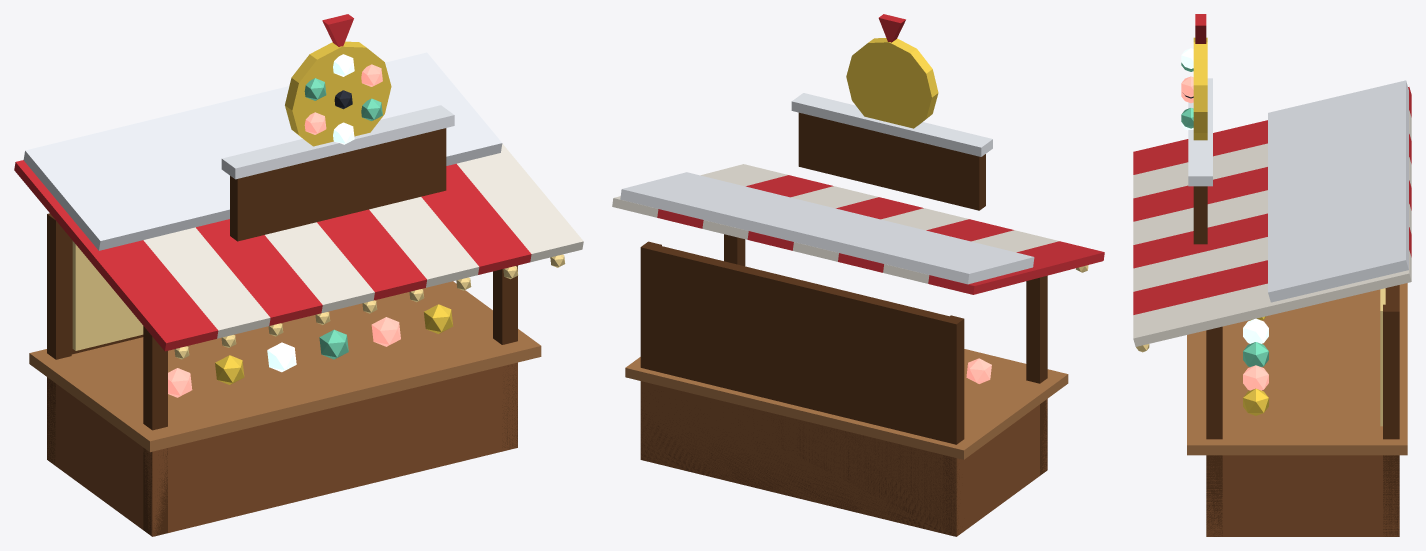
File: StallRoulette.fbx
3 views of the same model, side by side, from view 1: azimuth 30°, elevation 25°; view 2: azimuth 150°, elevation 25°; view 3: azimuth 270°, elevation 25° (orthographic). The views are drawn at different scales.
Parts seen in each view (by area): view 1: StallRoulette_Wood, StallRoulette_WoodLight, StallRoulette_Snow, StallRoulette_Red, StallRoulette_WoodDark, StallRoulette_Cream, StallRoulette_Gold, StallRoulette_GlowWarm, StallRoulette_GlowRed, StallRoulette_GlowGreen, StallRoulette_GlowBlue; view 2: StallRoulette_WoodDark, StallRoulette_Wood, StallRoulette_Snow, StallRoulette_WoodLight, StallRoulette_Red, StallRoulette_Gold, StallRoulette_Cream; view 3: StallRoulette_Snow, StallRoulette_WoodLight, StallRoulette_Cream, StallRoulette_Wood, StallRoulette_Red, StallRoulette_WoodDark, StallRoulette_Gold, StallRoulette_GlowRed, StallRoulette_GlowGreen, StallRoulette_GlowBlue, StallRoulette_GlowWarm.
Part boxes in pixels (x1,y1,x2,y2): StallRoulette_Wood: (47,362,517,536); StallRoulette_WoodLight: (29,281,541,452); StallRoulette_Snow: (23,52,502,250); StallRoulette_Red: (14,14,531,351); StallRoulette_WoodDark: (47,128,517,536); StallRoulette_Cream: (143,144,583,338); StallRoulette_Gold: (215,41,453,384); StallRoulette_GlowWarm: (72,241,565,359); StallRoulette_GlowRed: (168,64,400,397); StallRoulette_GlowGreen: (304,78,382,359); StallRoulette_GlowBlue: (267,54,354,372); StallRoulette_WoodDark: (640,112,1047,536); StallRoulette_Wood: (640,381,1047,536); StallRoulette_Snow: (620,93,1034,284); StallRoulette_WoodLight: (625,349,1068,459); StallRoulette_Red: (657,14,1104,294); StallRoulette_Gold: (846,38,938,128); StallRoulette_Cream: (612,164,1059,283); StallRoulette_Snow: (1188,78,1408,302); StallRoulette_WoodLight: (1187,283,1407,455); StallRoulette_Cream: (1133,110,1411,346); StallRoulette_Wood: (1206,455,1399,536); StallRoulette_Red: (1133,14,1411,314); StallRoulette_WoodDark: (1193,186,1399,536); StallRoulette_Gold: (1193,37,1268,415); StallRoulette_GlowRed: (1181,76,1268,390); StallRoulette_GlowGreen: (1181,62,1268,367); StallRoulette_GlowBlue: (1181,48,1268,343); StallRoulette_GlowWarm: (1136,288,1385,426).
Bounding box in the file's own units: 1600 × 1740 × 1009.
